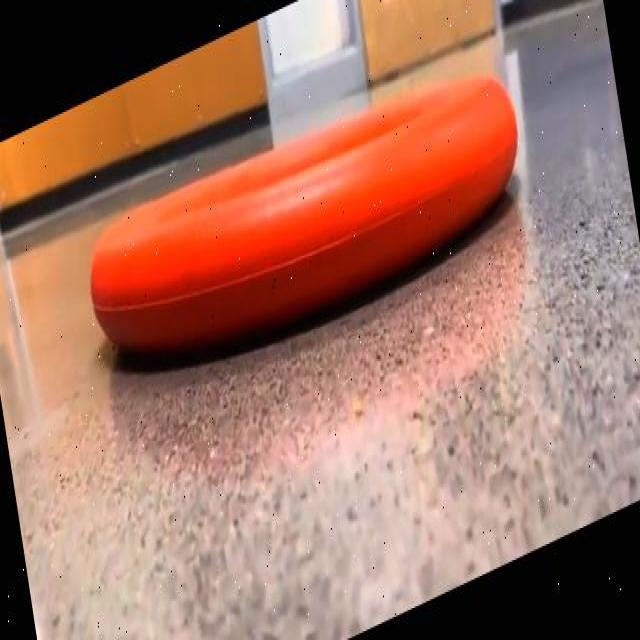note: (91, 77, 516, 352)
